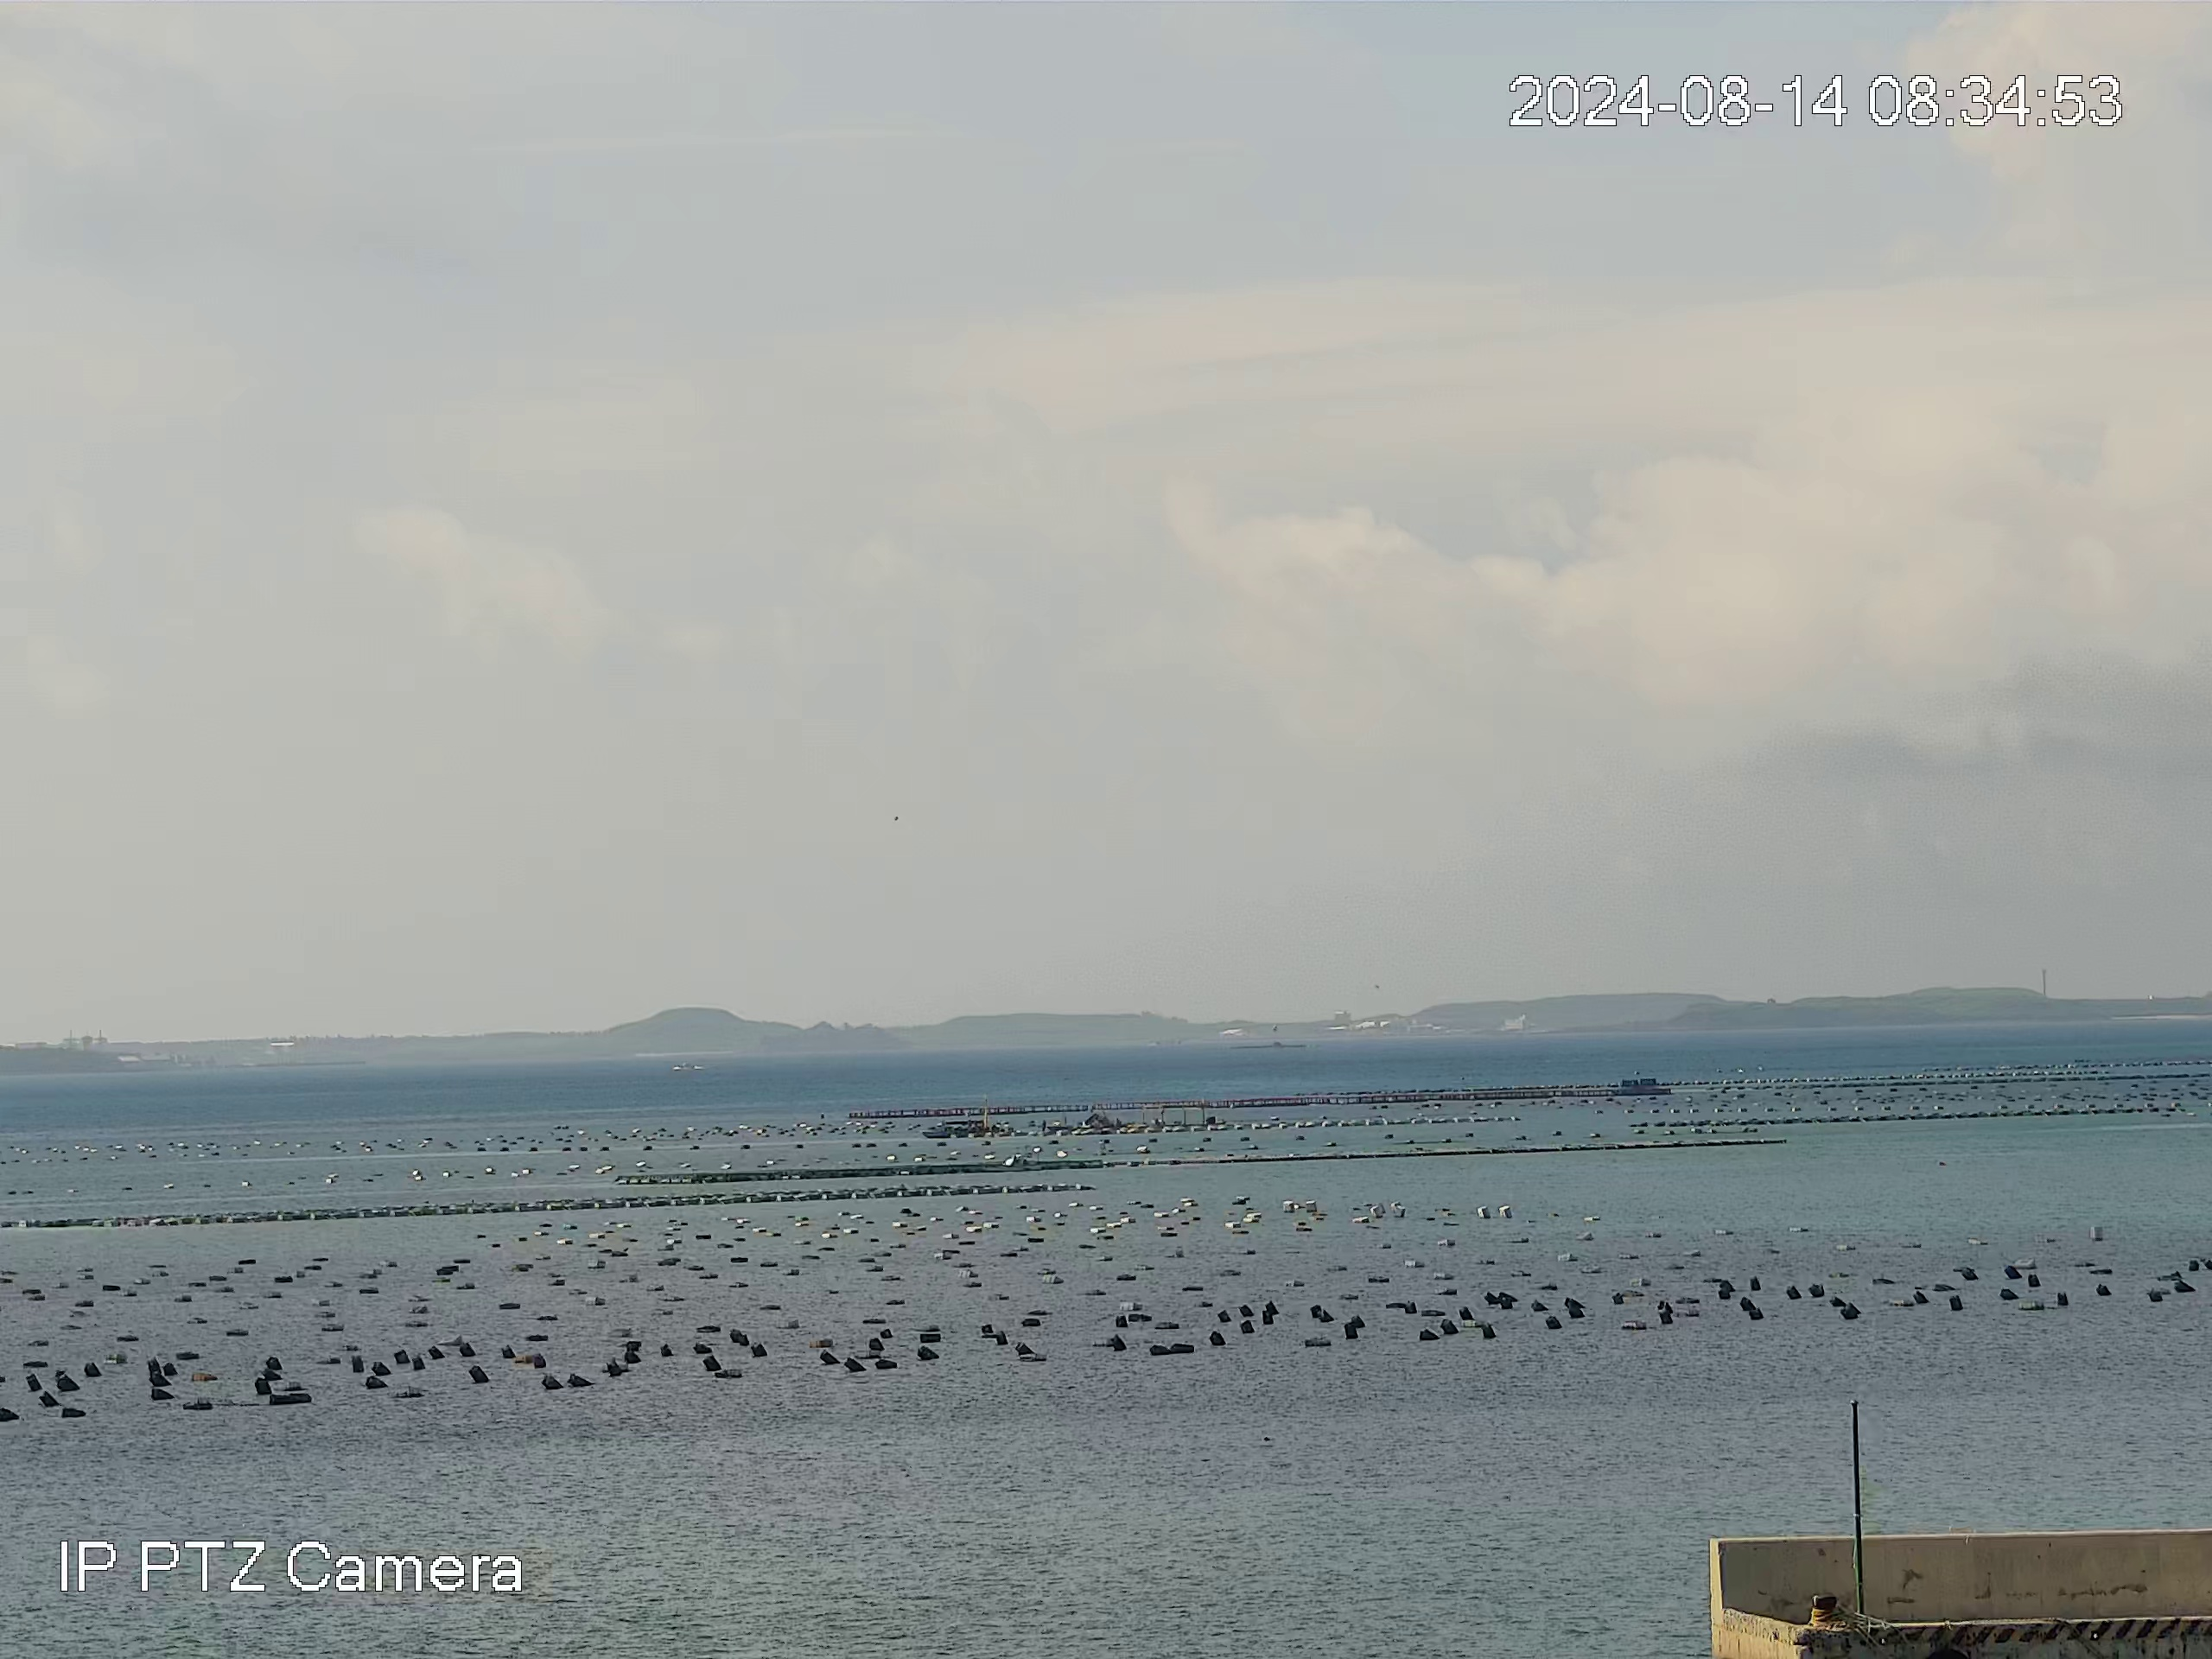boat: (928, 1117, 989, 1140)
